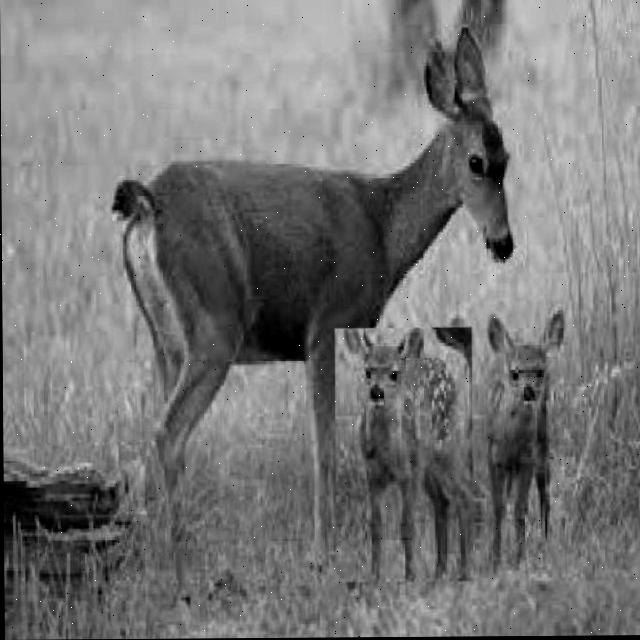Deer: (82, 45, 525, 312), (335, 327, 476, 583), (484, 314, 591, 578)
